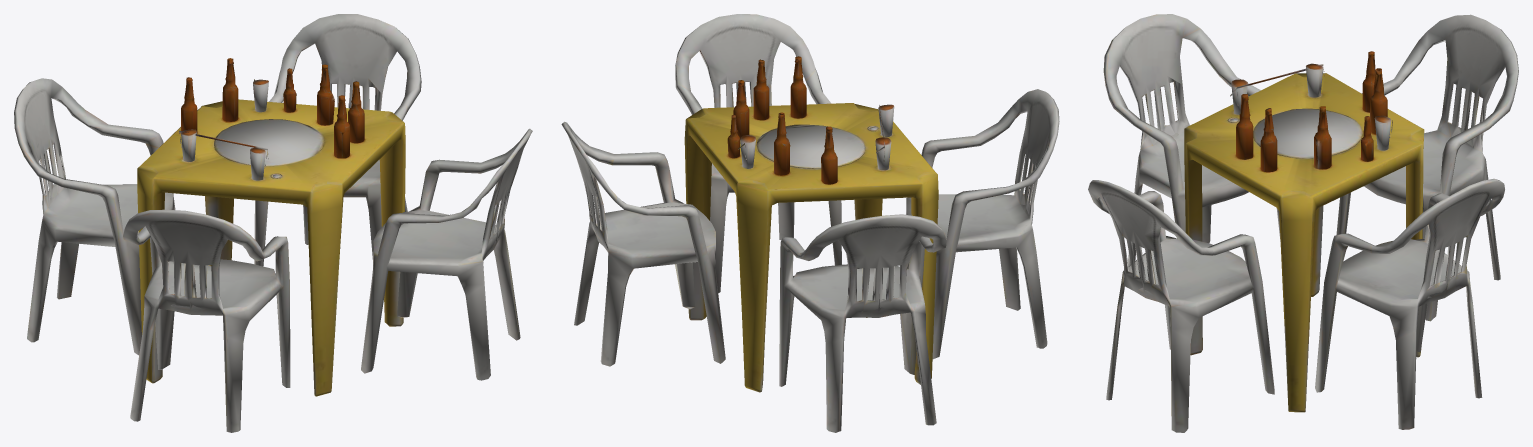
File: javaporcos_mint_mesa_bar.glb
The picture shows the model from 3 angles, left to right: view 1: azimuth 30°, elevation 25°; view 2: azimuth 150°, elevation 25°; view 3: azimuth 270°, elevation 25°; orthographic projection. The views are drawn at different scales.
Parts seen in each view (by area): view 1: Mesa e cadeiras de bar; view 2: Mesa e cadeiras de bar; view 3: Mesa e cadeiras de bar.
Boxes of the visible parts, <box> form: Mesa e cadeiras de bar: <box>14,14,532,432</box>; Mesa e cadeiras de bar: <box>561,14,1059,432</box>; Mesa e cadeiras de bar: <box>1088,14,1518,432</box>.
Bounding box in the file's own units: 1.52 × 1 × 1.39.
Materials: 1 (1 with a texture image).
